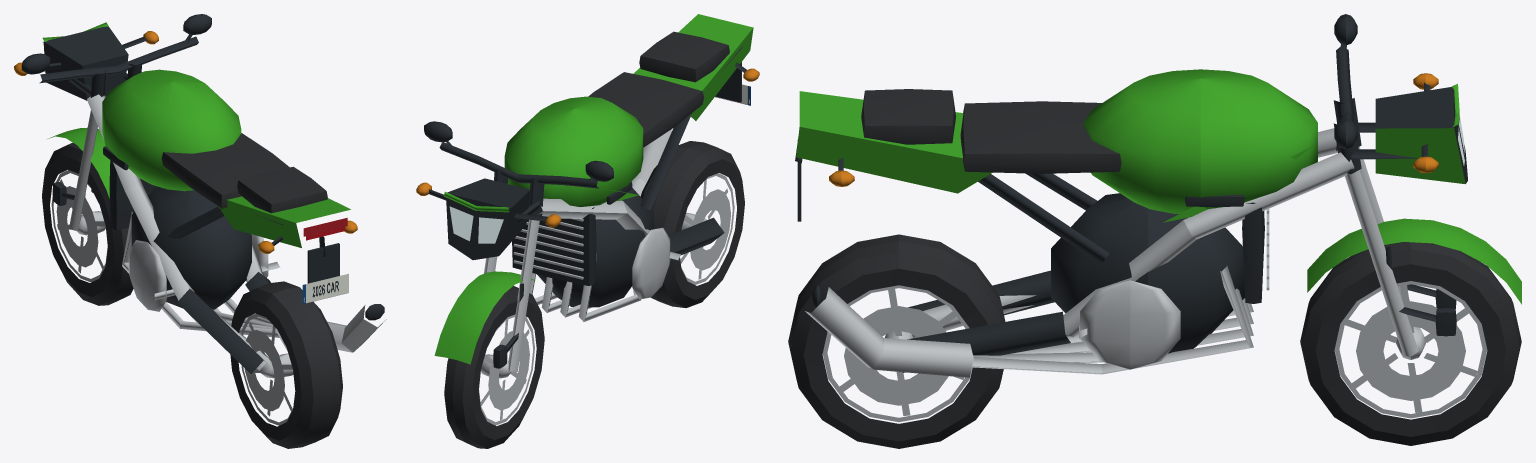
The model's file is Entrega_11d_LOD1.glb.
3 renders of one model, left to right at view 1: azimuth 30°, elevation 25°; view 2: azimuth 150°, elevation 25°; view 3: azimuth 270°, elevation 25°, orthographic. The views are drawn at different scales.
Visible parts, largest first — view 1: Body (×2), Wheel_R, Wheel_F, Plate, BrakeLights; view 2: Body (×2), Wheel_R, Wheel_F, Headlights, Indicators_L; view 3: Body (×2), Wheel_F, Wheel_R.
Boxes of the visible parts, x1,y1,x2,y2 form: Body (×2): (21,14,386,373); Wheel_R: (230,281,342,448); Wheel_F: (42,142,133,305); Plate: (302,273,348,303); BrakeLights: (303,217,347,236); Body (×2): (424,14,753,371); Wheel_R: (640,141,744,307); Wheel_F: (444,286,544,448); Headlights: (449,206,503,243); Indicators_L: (545,68,759,227); Body (×2): (795,14,1521,377); Wheel_F: (1300,242,1521,445); Wheel_R: (788,234,1005,448).
Size of the model in its own units: 0.8236 by 1.17 by 2.09.
10 materials, 1 textured.
